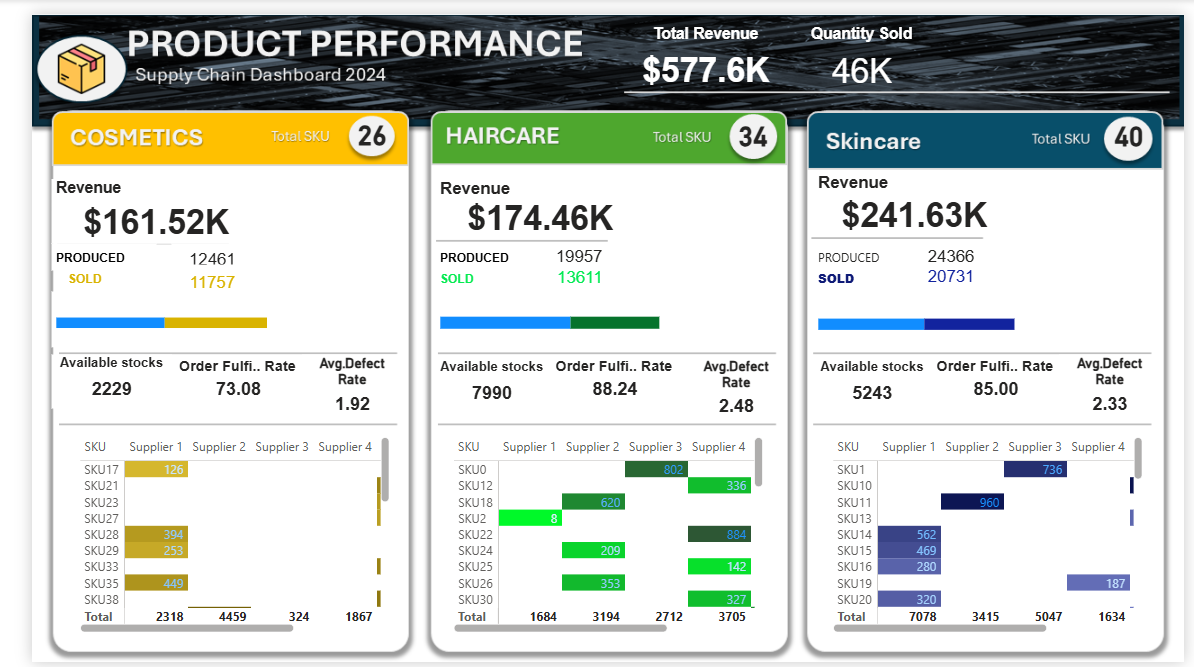

What the dashboard file says about the page in this screenshot:
{"tool":"powerbi","page":{"name":"Page 1","canvas":[1280,720],"ordinal":0},"visuals":[{"type":"card","title":"Total Revenue","fields":{"Values":["_Measures.Total_revenue"]},"box":[640,11.7,216.7,78.3],"z":0},{"type":"card","title":"Quantity Sold","fields":{"Values":["_Measures.Total_quantity_sold"]},"box":[771.7,11.7,300,80],"z":1000},{"type":"card","title":"Revenue","fields":{"Values":["_Measures.Cosmetics_revenue"]},"box":[21.7,183.3,231.7,71.7],"z":2000},{"type":"card","title":"Revenue","fields":{"Values":["_Measures.Haircare_revenue"]},"box":[448.3,183.3,231.7,61.7],"z":3000},{"type":"card","title":"Revenue","fields":{"Values":["_Measures.Skinare_revenue"]},"box":[868.3,176.7,223.3,68.3],"z":4000},{"type":"card","fields":{"Values":["_Measures.Skincare_produced"]},"box":[980,250,81.7,40],"z":5000},{"type":"card","fields":{"Values":["_Measures.Skincare_sold"]},"box":[980,278.3,81.7,26.7],"z":6000},{"type":"card","title":"Available stocks","fields":{"Values":["_Measures.Cosmetics_available_stocks"]},"box":[21.7,378.3,133.3,60],"z":7000},{"type":"textbox","box":[868.3,255,98.3,30],"z":8000},{"type":"textbox","box":[868.3,278.3,73.3,35],"z":9000},{"type":"textbox","box":[21.7,255,116.7,30],"z":10000},{"type":"textbox","box":[35,278.3,53.3,35],"z":11000},{"type":"textbox","box":[448.3,255,95,30],"z":12000},{"type":"textbox","box":[448.3,278.3,63.3,35],"z":13000},{"type":"card","fields":{"Values":["_Measures.Cosmetics_produced"]},"box":[155,255,90,36.7],"z":14000},{"type":"card","fields":{"Values":["_Measures.Cosmetics_sold"]},"box":[165,278.3,70,40],"z":15000},{"type":"card","fields":{"Values":["_Measures.Haircare_produced"]},"box":[575,255,65,30],"z":16000},{"type":"card","fields":{"Values":["_Measures.Haircare_sold"]},"box":[576.7,278.3,63.3,30],"z":17000},{"type":"barChart","fields":{"Y":["_Measures.Cosmetics_produced","_Measures.Cosmetics_sold"]},"box":[21.7,308.3,300,61.7],"z":18000},{"type":"barChart","fields":{"Y":["_Measures.Haircare_produced","_Measures.Haircare_sold"]},"box":[448.3,305,300,68.3],"z":19000},{"type":"barChart","fields":{"Y":["_Measures.Skincare_produced","_Measures.Skincare_sold"]},"box":[868.3,308.3,300,65],"z":20000},{"type":"card","title":"Order Fulfi.. Rate","fields":{"Values":["_Measures.Order_fulfillment_rate"]},"box":[158.3,381.7,141.7,53.3],"z":21000},{"type":"card","title":"Avg.Defect Rate","fields":{"Values":["_Measures.Cosmetic_avg_defect_rate"]},"box":[300,378.3,111.7,75],"z":22000},{"type":"card","fields":{"Values":["_Measures.Cosmetics_SKU"]},"box":[321.7,90,111.7,85],"z":23000},{"type":"card","fields":{"Values":["_Measures.Haircare_SKU"]},"box":[745,91.7,111.7,85],"z":24000},{"type":"card","fields":{"Values":["_Measures.Skincare_SKU"]},"box":[1168.3,91.7,100,85],"z":25000},{"type":"pivotTable","fields":{"Rows":["supply_chain_data.SKU"],"Columns":["supply_chain_data.Supplier name"],"Values":["_Measures.Cosmetics_sold"]},"box":[48.3,465,353.3,226.7],"z":26000},{"type":"card","title":"Available stocks","fields":{"Values":["_Measures.Skincare_available_stocks"]},"box":[866.7,383.3,133.3,60],"z":27000},{"type":"card","title":"Available stocks","fields":{"Values":["_Measures.Haircare_available_stocks"]},"box":[446.7,383.3,128.3,60],"z":28000},{"type":"card","title":"Order Fulfi.. Rate","fields":{"Values":["_Measures.Order_fulfillment_rate2"]},"box":[1000,381.7,141.7,53.3],"z":29000},{"type":"card","title":"Order Fulfi.. Rate","fields":{"Values":["_Measures.Order_fulfillment_rate1"]},"box":[576.7,381.7,141.7,53.3],"z":30000},{"type":"card","title":"Avg.Defect Rate","fields":{"Values":["_Measures.Skincare_avg_defect_rate"]},"box":[1141.7,378.3,111.7,75],"z":31000},{"type":"card","title":"Avg.Defect Rate","fields":{"Values":["_Measures.Haircare_defect_rate_avg"]},"box":[730,381.7,105,71.7],"z":32000},{"type":"pivotTable","fields":{"Rows":["supply_chain_data.SKU"],"Columns":["supply_chain_data.Supplier name"],"Values":["_Measures.Haircare_sold"]},"box":[463.3,465,353.3,226.7],"z":32001},{"type":"pivotTable","fields":{"Rows":["supply_chain_data.SKU"],"Columns":["supply_chain_data.Supplier name"],"Values":["_Measures.Skincare_sold"]},"box":[885,465,353.3,226.7],"z":32002}]}

Visuals, with their boxes in screenshot pixels (x1, y1, x2, y2), scaled from the page's 1280x720 canvas onto the 1194x667 screenshot:
"Total Revenue" card: region(597, 11, 799, 83)
"Quantity Sold" card: region(720, 11, 1000, 85)
"Revenue" card: region(20, 170, 236, 236)
"Revenue" card: region(418, 170, 634, 227)
"Revenue" card: region(810, 164, 1018, 227)
card - _Measures.Skincare_produced: region(914, 232, 990, 269)
card - _Measures.Skincare_sold: region(914, 258, 990, 283)
"Available stocks" card: region(20, 350, 145, 406)
textbox: region(810, 236, 902, 264)
textbox: region(810, 258, 878, 290)
textbox: region(20, 236, 129, 264)
textbox: region(33, 258, 82, 290)
textbox: region(418, 236, 507, 264)
textbox: region(418, 258, 477, 290)
card - _Measures.Cosmetics_produced: region(145, 236, 229, 270)
card - _Measures.Cosmetics_sold: region(154, 258, 219, 295)
card - _Measures.Haircare_produced: region(536, 236, 597, 264)
card - _Measures.Haircare_sold: region(538, 258, 597, 286)
barChart - _Measures.Cosmetics_produced x _Measures.Cosmetics_sold: region(20, 286, 300, 343)
barChart - _Measures.Haircare_produced x _Measures.Haircare_sold: region(418, 283, 698, 346)
barChart - _Measures.Skincare_produced x _Measures.Skincare_sold: region(810, 286, 1090, 346)
"Order Fulfi.. Rate" card: region(148, 354, 280, 403)
"Avg.Defect Rate" card: region(280, 350, 384, 420)
card - _Measures.Cosmetics_SKU: region(300, 83, 404, 162)
card - _Measures.Haircare_SKU: region(695, 85, 799, 164)
card - _Measures.Skincare_SKU: region(1090, 85, 1183, 164)
pivotTable - supply_chain_data.SKU x supply_chain_data.Supplier name: region(45, 431, 375, 641)
"Available stocks" card: region(808, 355, 933, 411)
"Available stocks" card: region(417, 355, 536, 411)
"Order Fulfi.. Rate" card: region(933, 354, 1065, 403)
"Order Fulfi.. Rate" card: region(538, 354, 670, 403)
"Avg.Defect Rate" card: region(1065, 350, 1169, 420)
"Avg.Defect Rate" card: region(681, 354, 779, 420)
pivotTable - supply_chain_data.SKU x supply_chain_data.Supplier name: region(432, 431, 762, 641)
pivotTable - supply_chain_data.SKU x supply_chain_data.Supplier name: region(826, 431, 1155, 641)
